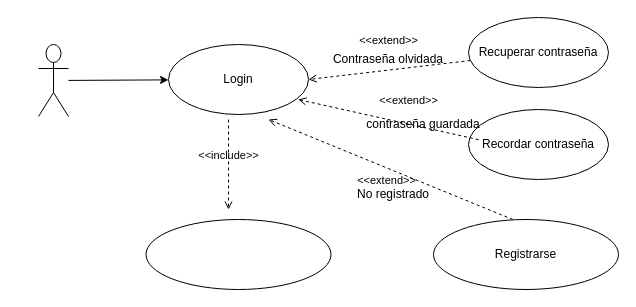
The diagram is 636 pixels wide and 307 high, and some of its shapes have lost their labels. Each missing label, with the centre of its shape:
"Usuario/socio" belongs at [53,80].
"Validar cuenta" belongs at [238,254].
